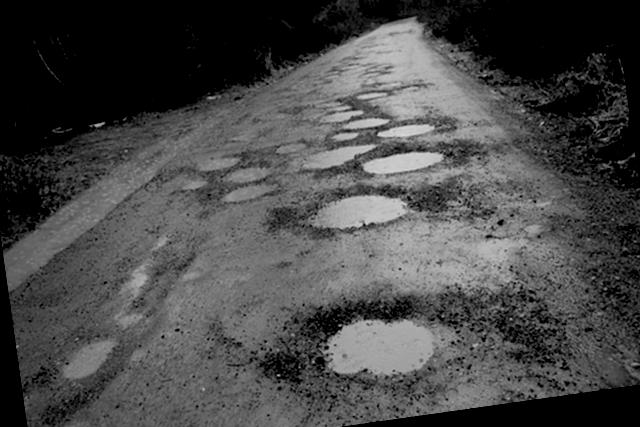Pothole: (249, 271, 519, 427), (10, 295, 152, 427), (288, 174, 427, 246), (348, 144, 462, 186), (296, 135, 387, 178), (220, 182, 288, 214), (196, 146, 252, 184), (317, 93, 367, 132), (374, 118, 444, 144), (222, 158, 280, 186), (268, 129, 318, 159), (334, 111, 394, 135), (328, 126, 364, 151), (354, 87, 392, 104)
